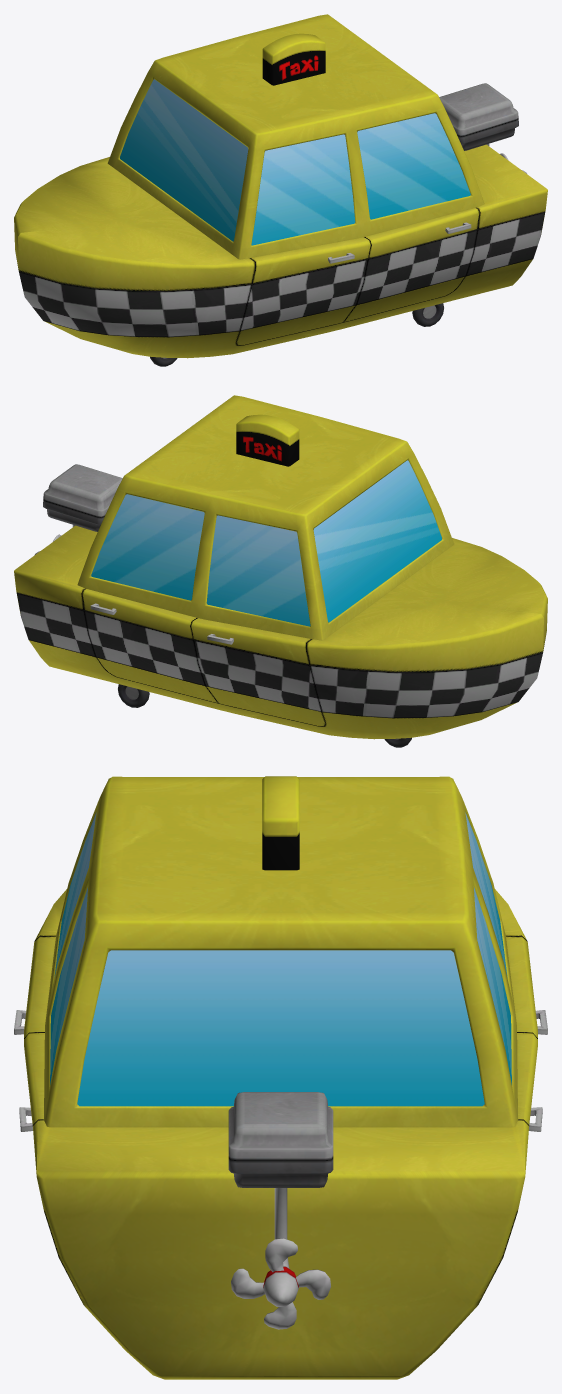
The model's file is Taxi.fbx.
3 views of the same model, one above another, from view 1: azimuth 30°, elevation 25°; view 2: azimuth 150°, elevation 25°; view 3: azimuth 270°, elevation 25° (orthographic). The views are drawn at different scales.
Parts seen in each view (by area): view 1: SM_JF_Taxi_01; view 2: SM_JF_Taxi_01; view 3: SM_JF_Taxi_01.
Boxes of the visible parts, x1,y1,x2,y2 form: SM_JF_Taxi_01: (14, 14, 547, 366); SM_JF_Taxi_01: (14, 395, 547, 747); SM_JF_Taxi_01: (14, 776, 547, 1379).
Bounding box in the file's own units: 865 × 480 × 469.
